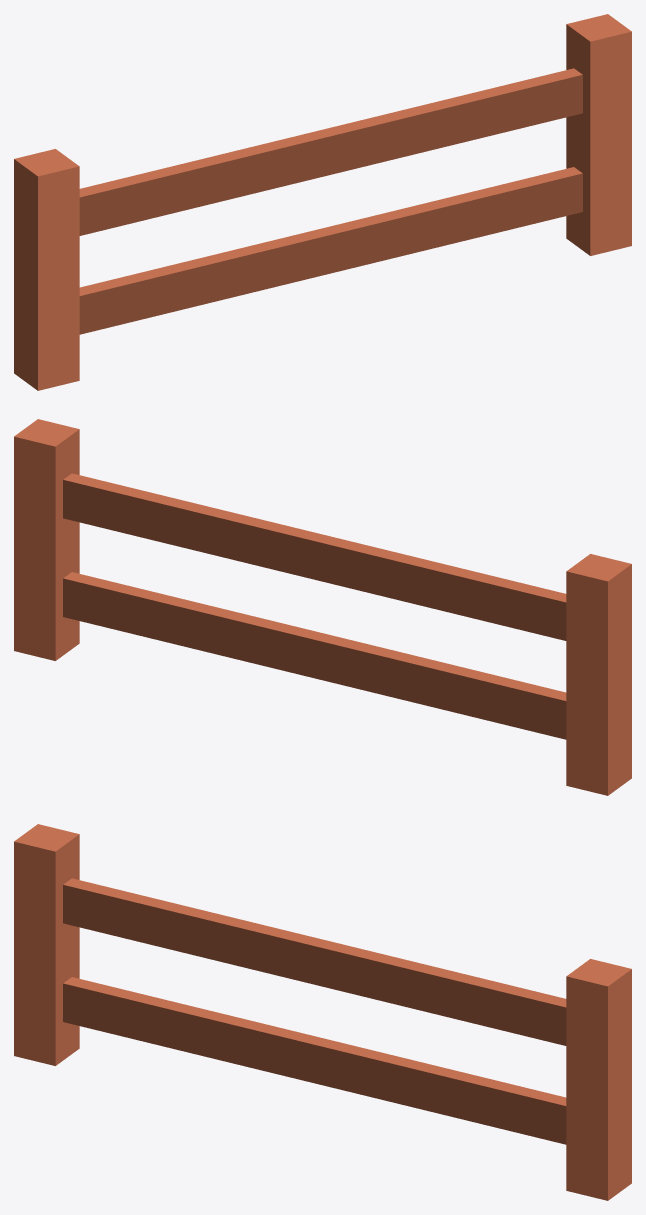
File: fence.glb
3 renders of one model, top to bottom at view 1: azimuth 30°, elevation 25°; view 2: azimuth 150°, elevation 25°; view 3: azimuth 330°, elevation 25°, orthographic.
Visible parts, largest first — view 1: fence_simple; view 2: fence_simple; view 3: fence_simple.
Boxes of the visible parts, <box> form: fence_simple: <box>14,14,631,390</box>; fence_simple: <box>14,419,631,795</box>; fence_simple: <box>14,824,631,1200</box>.
Bounding box in the file's own units: 1 × 0.345 × 0.07.
